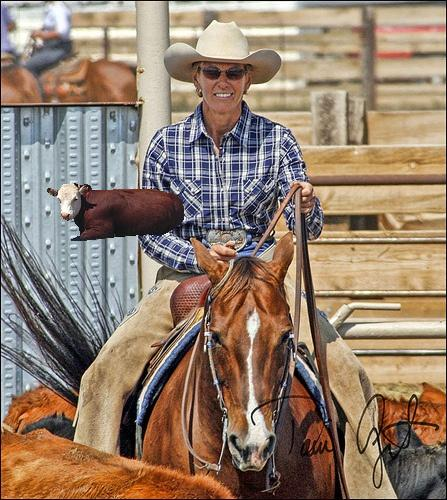tampered: (48, 184, 184, 241)
